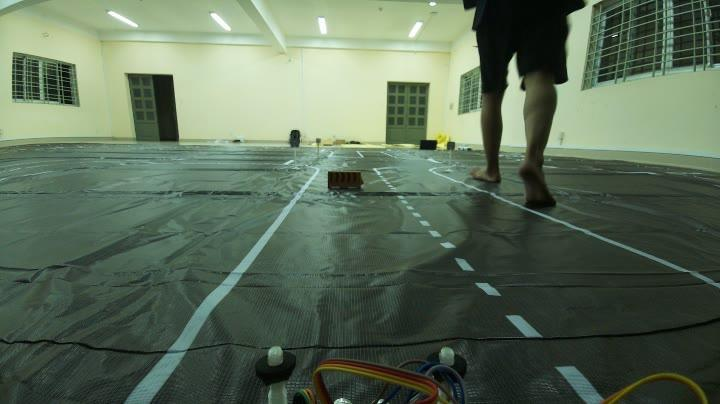roadblock: (322, 166, 366, 195)
